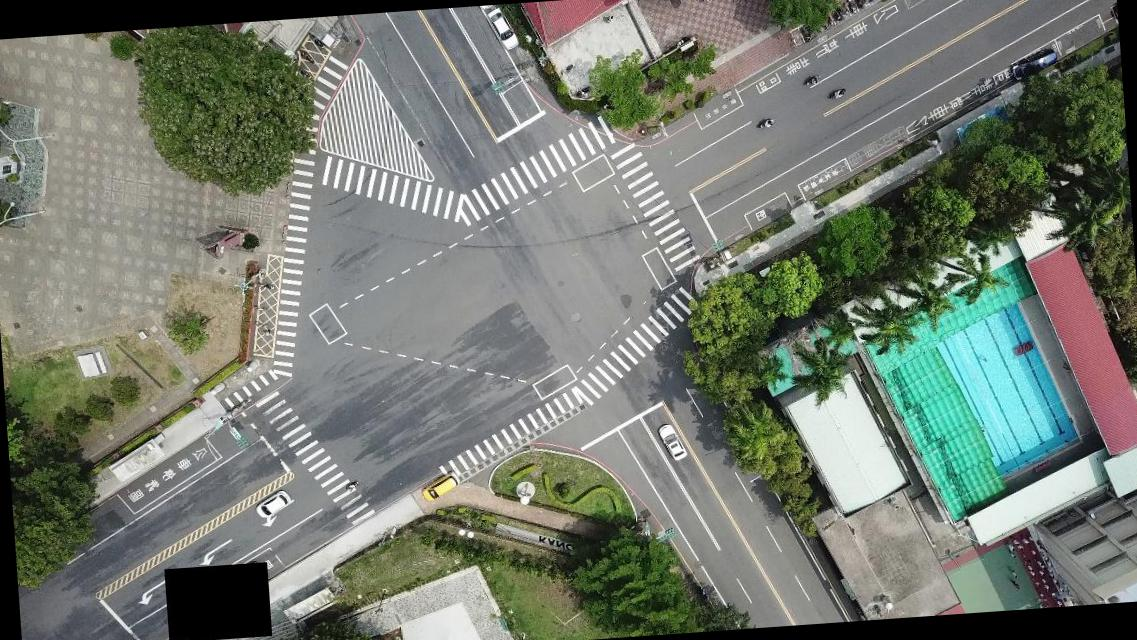vehicle: (1008, 49, 1060, 82), (486, 7, 520, 53), (420, 470, 460, 502), (655, 421, 686, 461), (252, 489, 290, 518)
